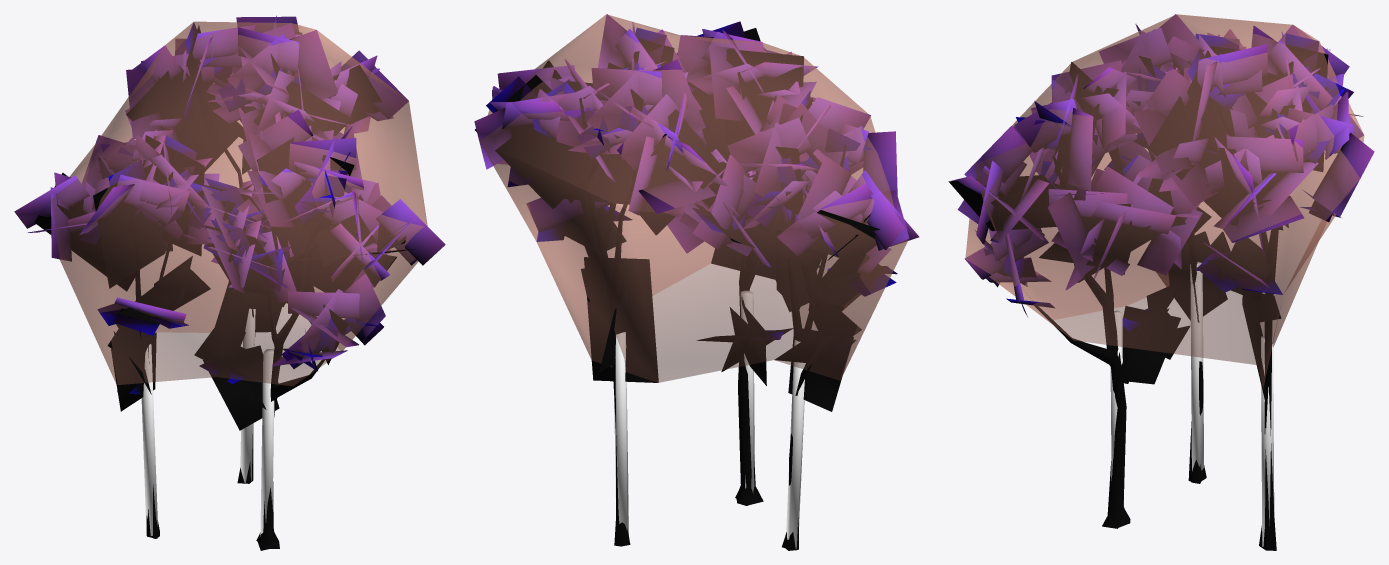
Rendered from tree_oak_forest_group.dae.
3 renders of one model, left to right at view 1: azimuth 30°, elevation 25°; view 2: azimuth 150°, elevation 25°; view 3: azimuth 270°, elevation 25°, orthographic. The views are drawn at different scales.
Parts seen in each view (by area): view 1: Colmesh_forest_group-1, OakForest_Group_a600, OakForest_Group_a1600; view 2: Colmesh_forest_group-1, OakForest_Group_a1600, OakForest_Group_a600; view 3: Colmesh_forest_group-1, OakForest_Group_a1600, OakForest_Group_a600.
Boxes of the visible parts, left/top/right/bottom form: Colmesh_forest_group-1: left=51, top=21, right=427, bottom=536; OakForest_Group_a600: left=14, top=16, right=444, bottom=550; OakForest_Group_a1600: left=14, top=16, right=445, bottom=548; Colmesh_forest_group-1: left=479, top=14, right=907, bottom=549; OakForest_Group_a1600: left=474, top=14, right=918, bottom=550; OakForest_Group_a600: left=487, top=14, right=919, bottom=549; Colmesh_forest_group-1: left=965, top=14, right=1364, bottom=546; OakForest_Group_a1600: left=949, top=14, right=1374, bottom=550; OakForest_Group_a600: left=948, top=14, right=1373, bottom=549.
Size of the model in its own units: 12.49 by 10.83 by 14.17.
